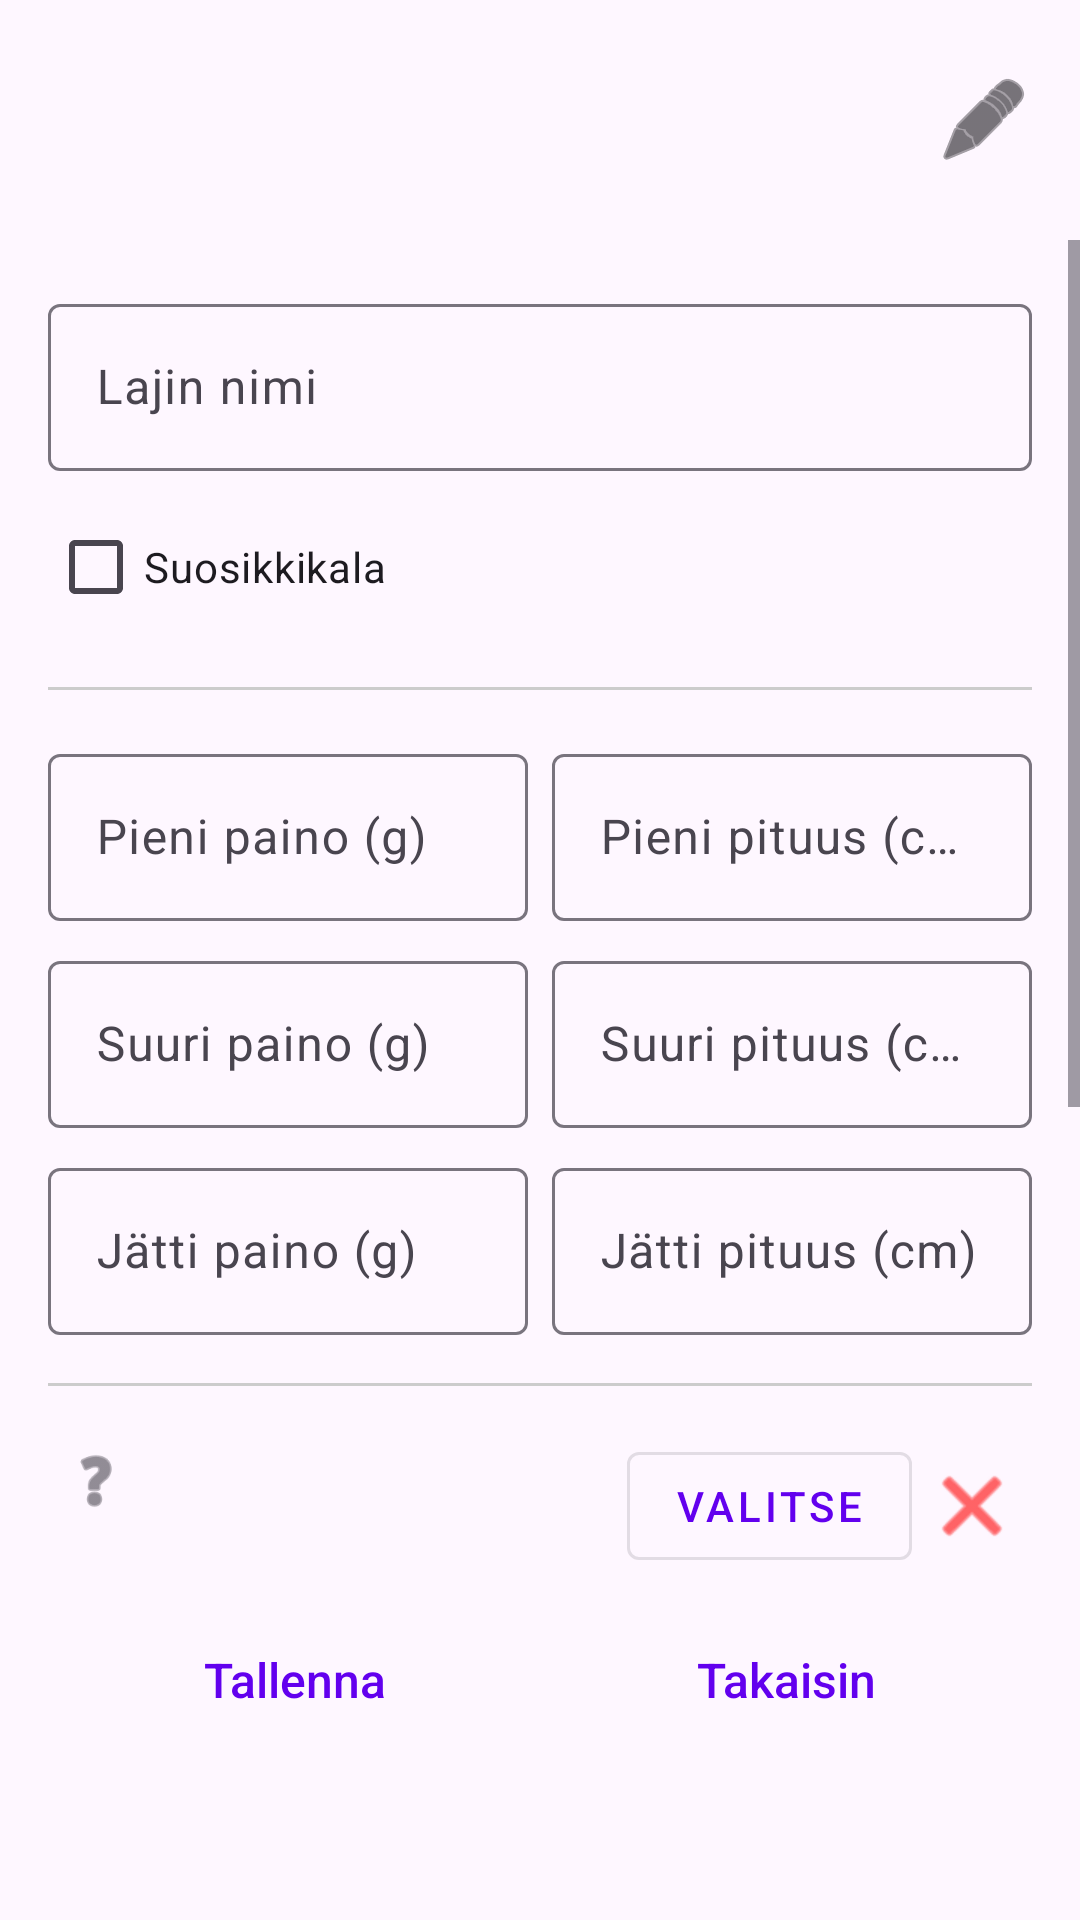

Where icons sit on this 1080 x 1920 app screen, as {"x1": x1, "y1": y1, "x2": x2, "y2": y2}:
close clear cancel: {"x1": 942, "y1": 1476, "x2": 1002, "y2": 1536}
help: {"x1": 80, "y1": 1455, "x2": 112, "y2": 1507}
Muokkaa: {"x1": 943, "y1": 79, "x2": 1024, "y2": 160}
